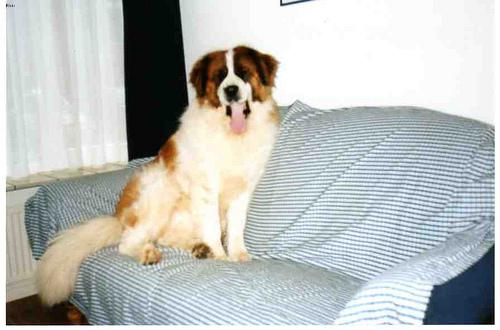dog-saint_bernard: (189, 45, 275, 131)
